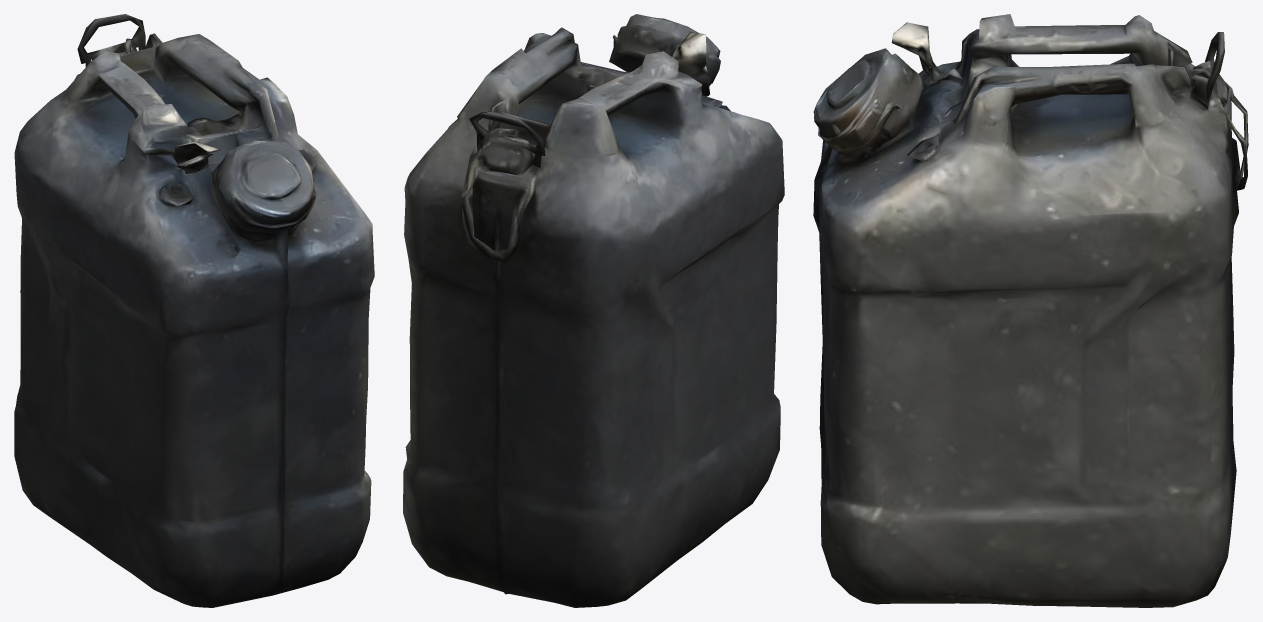
File: it_canister_e.glb
3 renders of one model, left to right at view 1: azimuth 30°, elevation 25°; view 2: azimuth 150°, elevation 25°; view 3: azimuth 270°, elevation 25°, orthographic. The views are drawn at different scales.
Visible parts, largest first — view 1: tripo_node_ca521e97-7477-4d95-8e7c-a8c2fc0393e7; view 2: tripo_node_ca521e97-7477-4d95-8e7c-a8c2fc0393e7; view 3: tripo_node_ca521e97-7477-4d95-8e7c-a8c2fc0393e7.
Part boxes in pixels (x1=…): tripo_node_ca521e97-7477-4d95-8e7c-a8c2fc0393e7: x1=14, y1=14, x2=374, y2=607; tripo_node_ca521e97-7477-4d95-8e7c-a8c2fc0393e7: x1=403, y1=14, x2=784, y2=607; tripo_node_ca521e97-7477-4d95-8e7c-a8c2fc0393e7: x1=813, y1=14, x2=1248, y2=607.
Bounding box in the file's own units: 0.5023 × 1 × 0.7526.
1 material, 1 textured.
